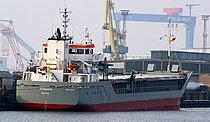Ship: (14, 26, 195, 114)
